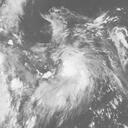cyclone: (31, 45, 102, 116)
